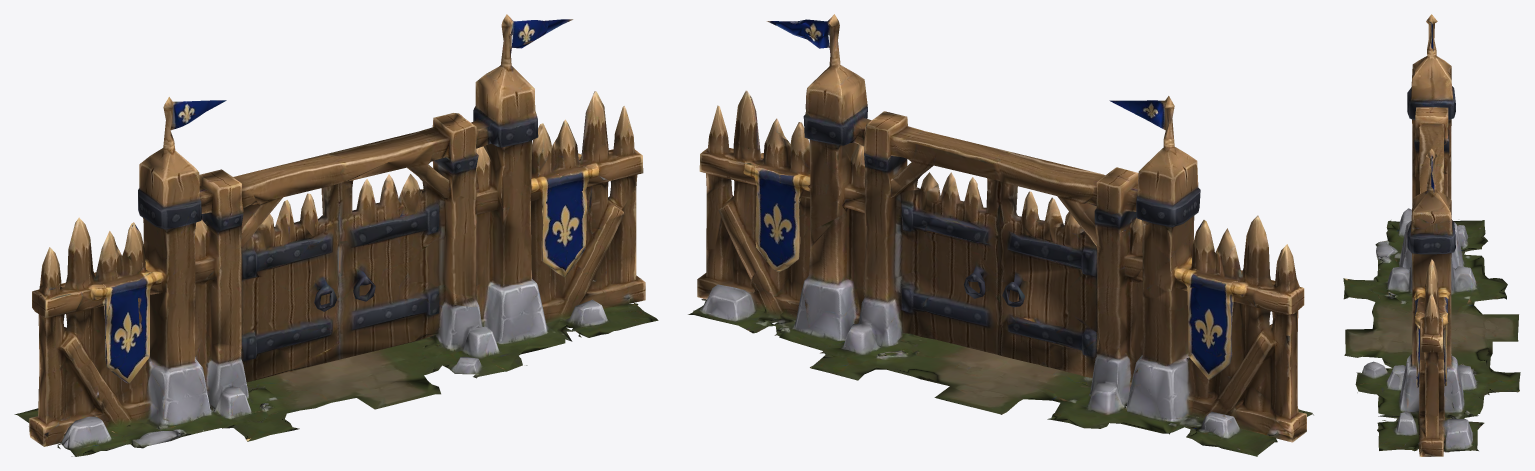
Rendered from wall_1_2_3_4_5.glb.
The picture shows the model from 3 angles, left to right: view 1: azimuth 30°, elevation 25°; view 2: azimuth 150°, elevation 25°; view 3: azimuth 270°, elevation 25°; orthographic projection. The views are drawn at different scales.
Size of the model in its own units: 1.9 by 0.966 by 0.5925.
Materials: 1 (1 with a texture image).
